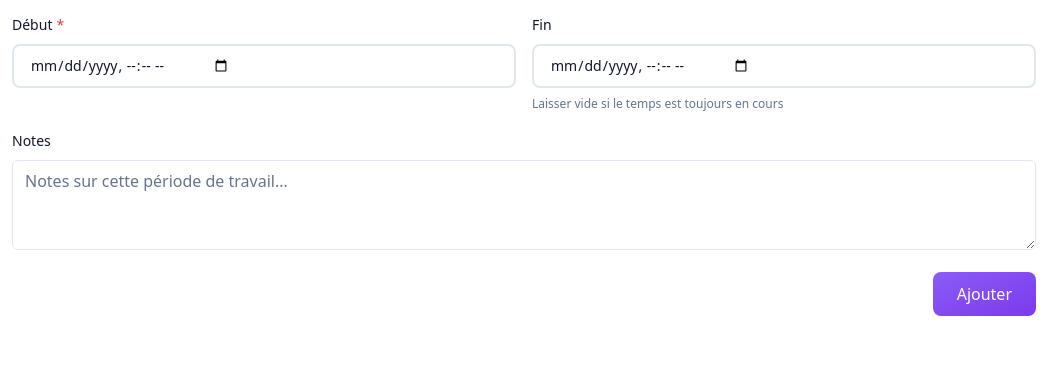
Test case: TimeEntryForm › Validation › shows error when end time is before or equal to start time
Step 1. Type "2024-01-15T12:00" into the field labelled "Début*" → (264, 66), box [12,44,516,88]
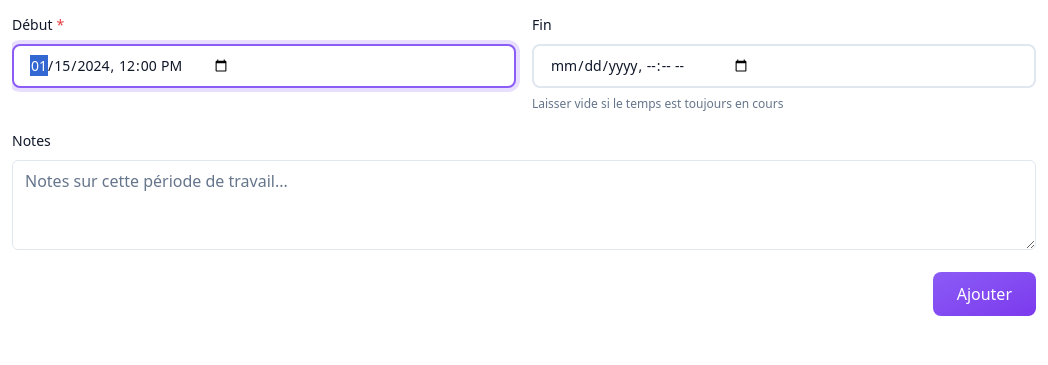
Step 2. Type "2024-01-15T10:00" into the field labelled "Fin" → (784, 66), box [532,44,1036,88]
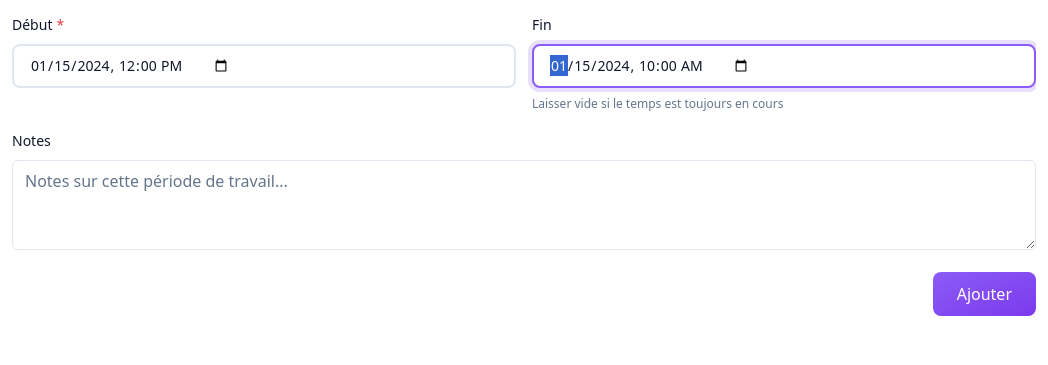
Step 3. Click the button "Ajouter" → (984, 294), box [933,272,1036,316]
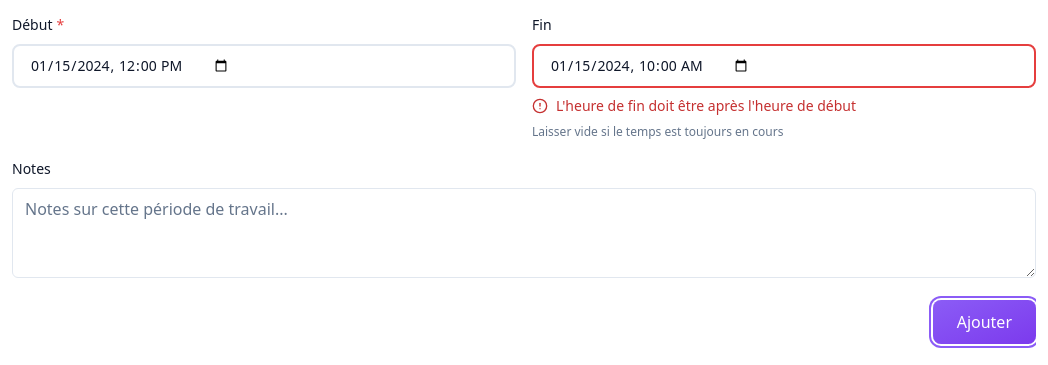
Result: the text "L'heure de fin doit être après l'heure de début" is shown at [532,96,856,115]
